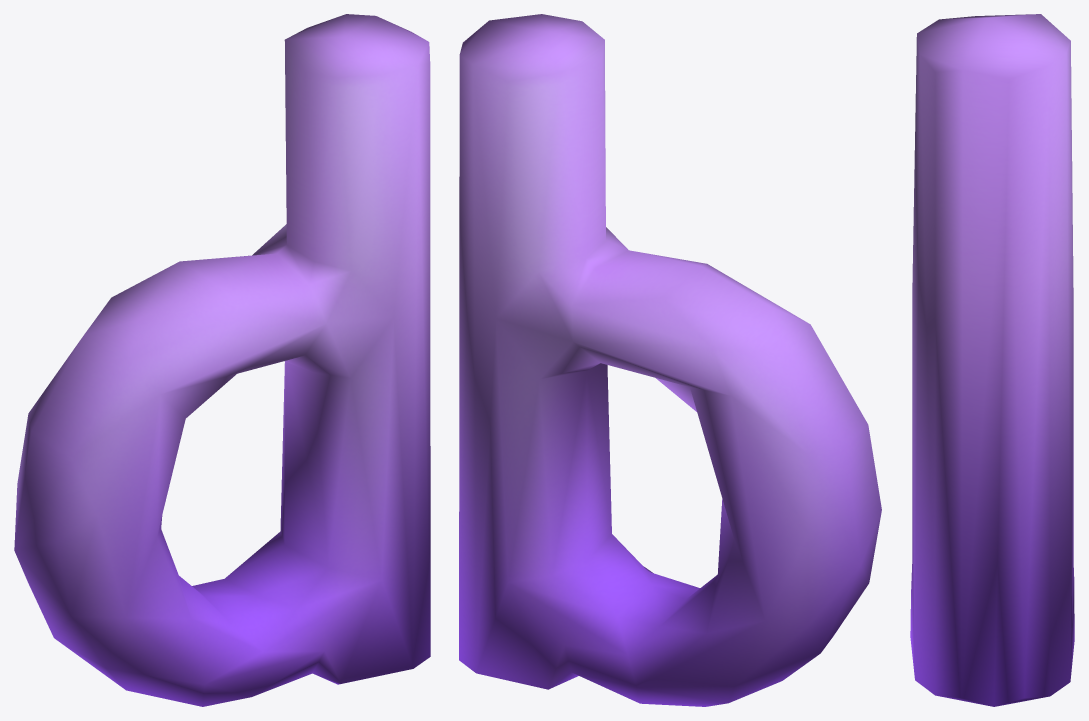
The picture shows the model from 3 angles, left to right: view 1: azimuth 30°, elevation 25°; view 2: azimuth 150°, elevation 25°; view 3: azimuth 270°, elevation 25°; orthographic projection. The views are drawn at different scales.
Visible parts, largest first — view 1: Processed_Mesh0_Geometry; view 2: Processed_Mesh0_Geometry; view 3: Processed_Mesh0_Geometry.
Boxes of the visible parts, left/top/right/bottom form: Processed_Mesh0_Geometry: left=14, top=14, right=430, bottom=706; Processed_Mesh0_Geometry: left=459, top=14, right=881, bottom=706; Processed_Mesh0_Geometry: left=910, top=14, right=1074, bottom=706.
Size of what is drawn, in the model's own units: 0.0561 by 0.0847 by 0.0192.
Materials: 1 (1 with a texture image).
